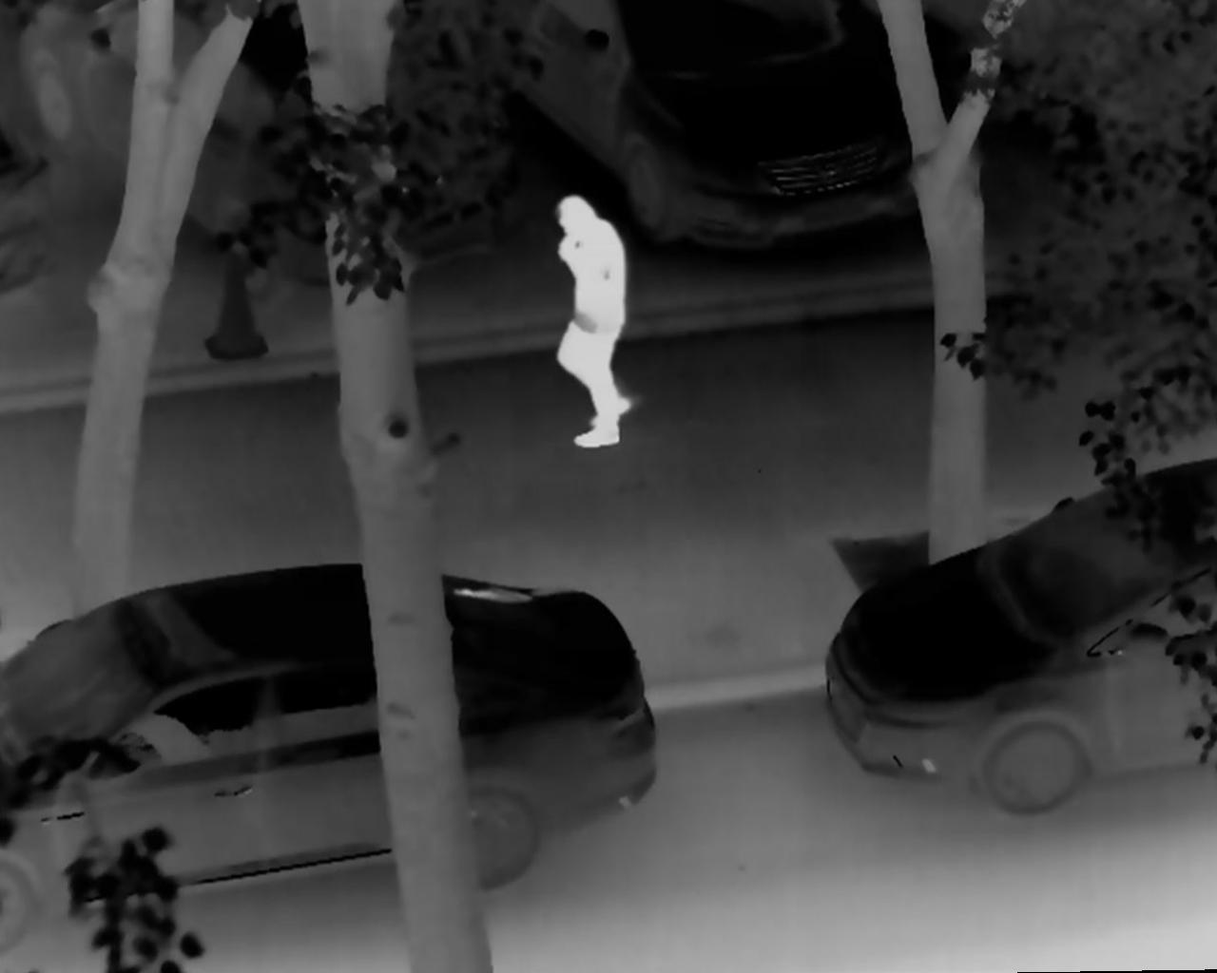person: (531, 196, 644, 452)
